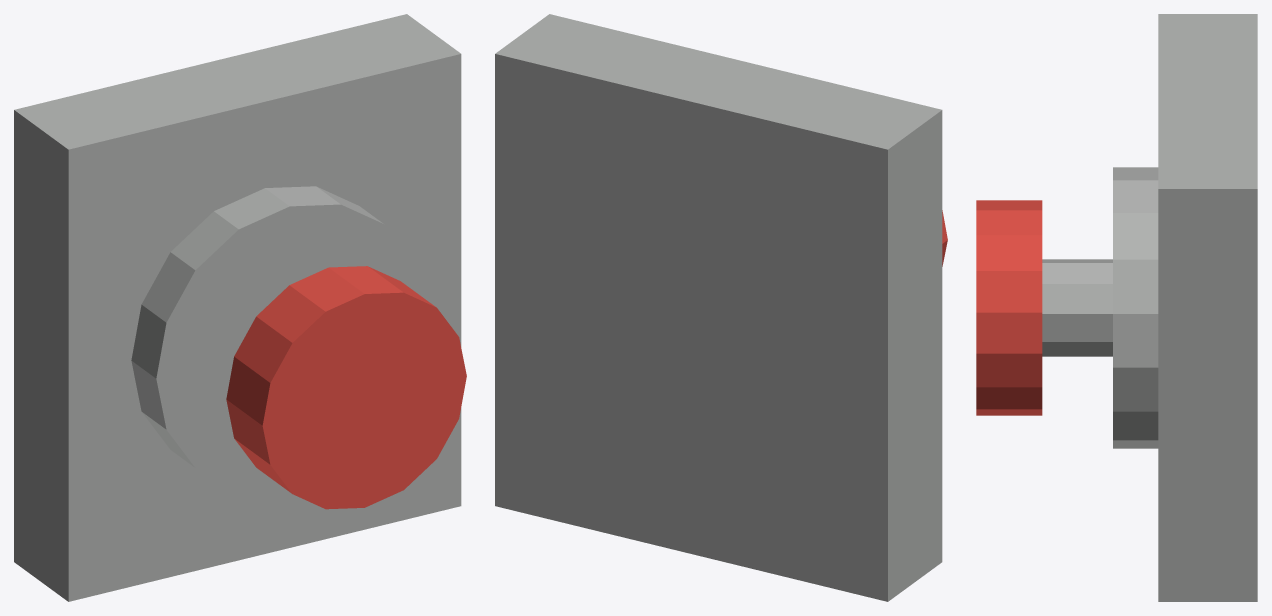
Rendered from dm_pushbutton.glb.
3 renders of one model, left to right at view 1: azimuth 30°, elevation 25°; view 2: azimuth 150°, elevation 25°; view 3: azimuth 270°, elevation 25°, orthographic. The views are drawn at different scales.
Parts seen in each view (by area): view 1: dm_pushbutton; view 2: dm_pushbutton; view 3: dm_pushbutton.
Part boxes in pixels (x1,y1,x2,y2): dm_pushbutton: (14, 14, 466, 601); dm_pushbutton: (495, 14, 947, 601); dm_pushbutton: (976, 14, 1257, 601).
Bounding box in the file's own units: 0.1 × 0.11 × 0.068.
